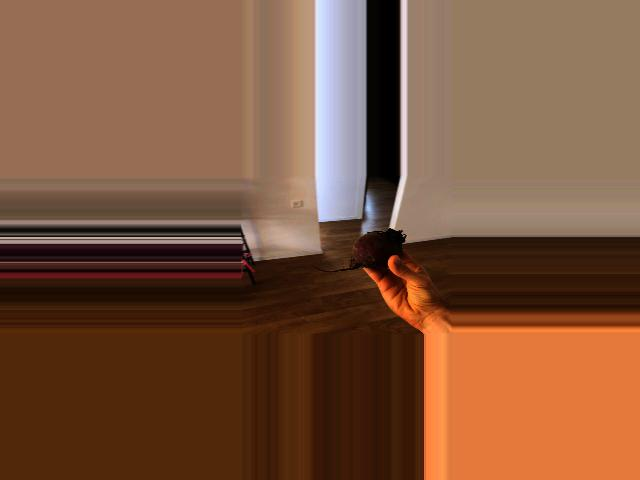beet: (312, 229, 404, 272)
